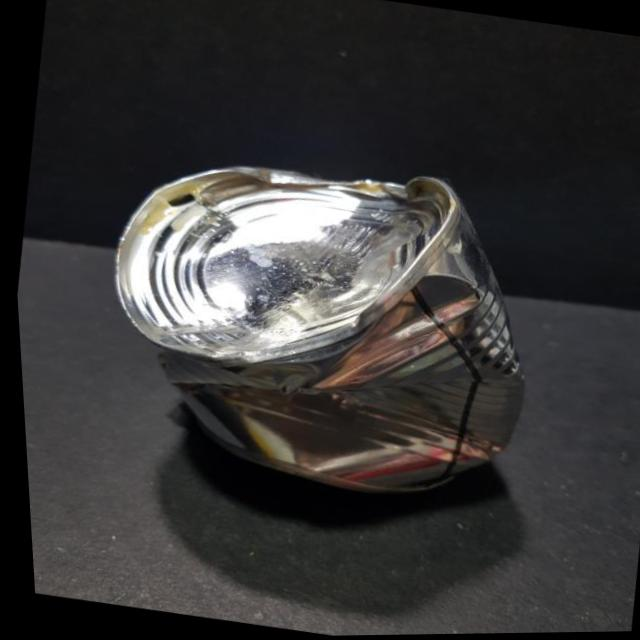metal: (71, 117, 570, 541)
